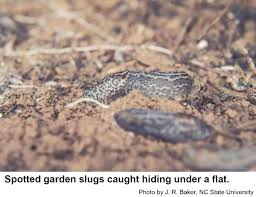slug: (117, 109, 228, 145)
